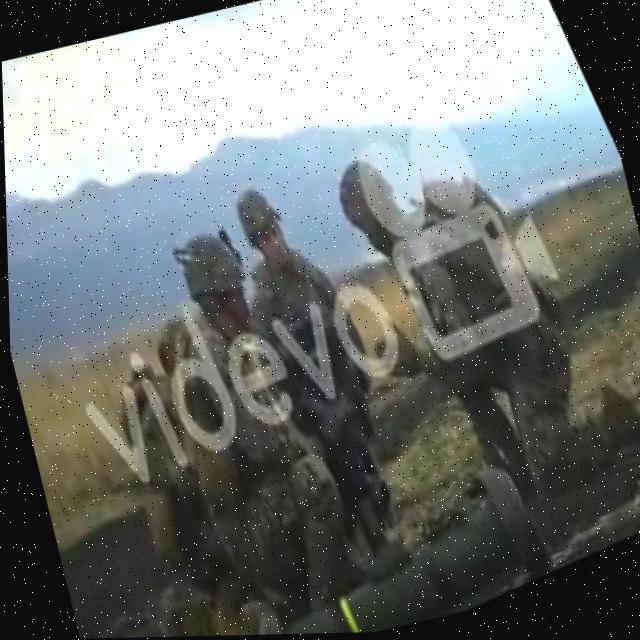rocket: (210, 456, 555, 637)
